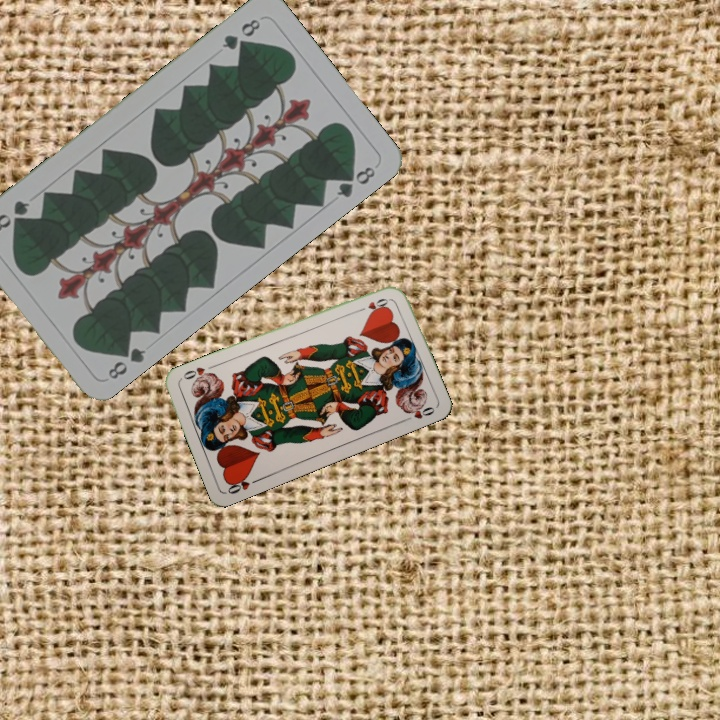G8: (103, 339, 149, 382), (217, 14, 264, 53)
HO: (223, 471, 262, 497), (353, 294, 393, 314)
